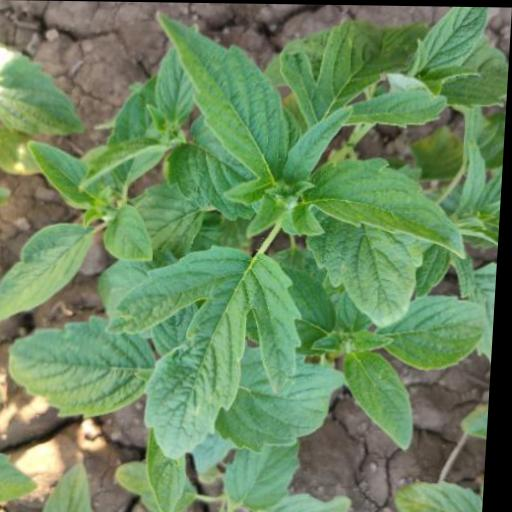weed: (1, 17, 511, 512)
